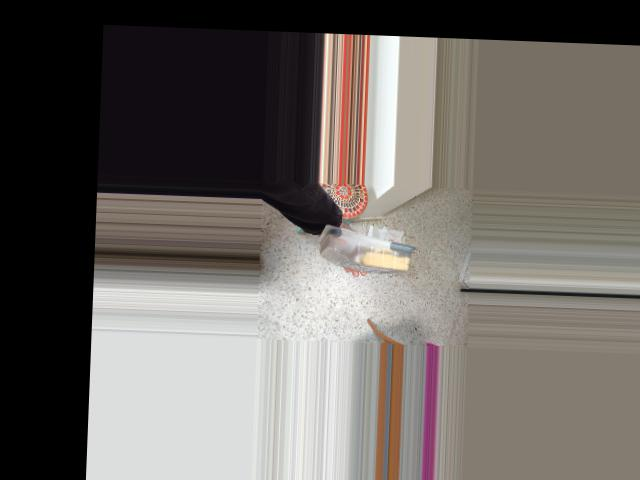cheese: (314, 221, 414, 275)
